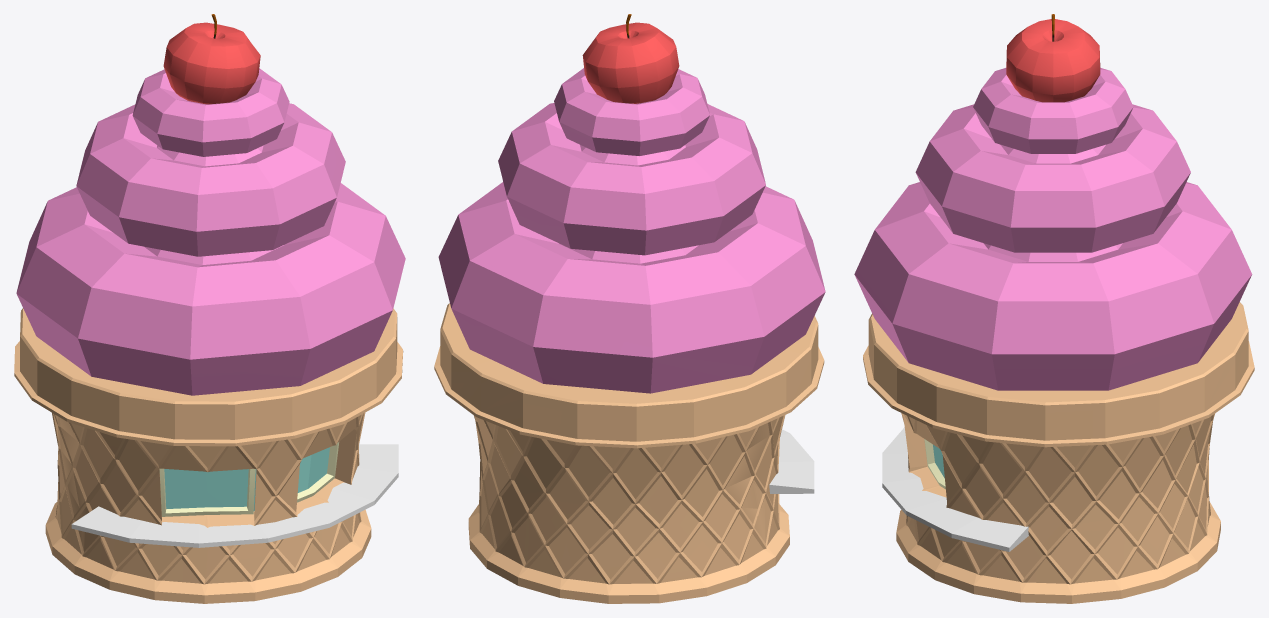
Rendered from IceCream_House.fbx.
The picture shows the model from 3 angles, left to right: view 1: azimuth 30°, elevation 25°; view 2: azimuth 150°, elevation 25°; view 3: azimuth 270°, elevation 25°; orthographic projection.
Parts seen in each view (by area): view 1: IceCream_House; view 2: IceCream_House; view 3: IceCream_House.
Part boxes in pixels (left/top/right/bottom): IceCream_House: left=14, top=14, right=405, bottom=603; IceCream_House: left=434, top=14, right=825, bottom=603; IceCream_House: left=854, top=14, right=1254, bottom=603.
Size of the model in its own units: 420 by 429 by 617.
